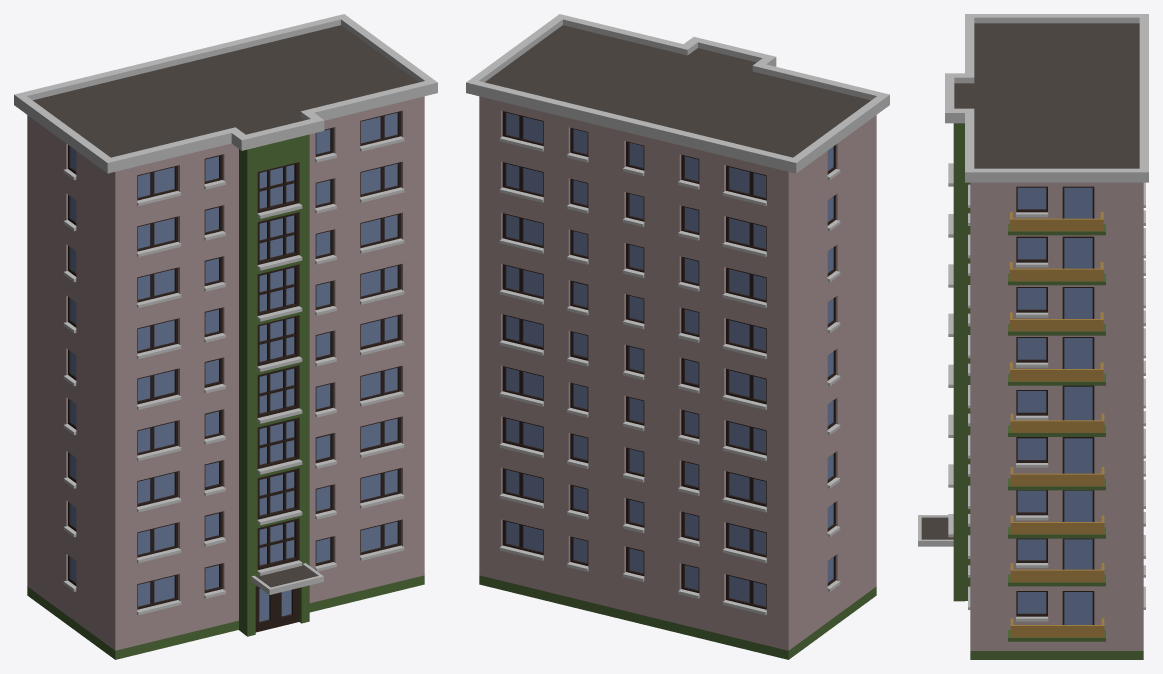
File: ApartmentBuilding_11.fbx
3 views of the same model, side by side, from view 1: azimuth 30°, elevation 25°; view 2: azimuth 150°, elevation 25°; view 3: azimuth 270°, elevation 25° (orthographic).
Visible parts, largest first — view 1: ApartmentBuilding_11; view 2: ApartmentBuilding_11; view 3: ApartmentBuilding_11.
Boxes of the visible parts, bbox=[...] form: ApartmentBuilding_11: bbox=[14, 14, 437, 659]; ApartmentBuilding_11: bbox=[466, 14, 889, 659]; ApartmentBuilding_11: bbox=[918, 14, 1148, 659].
Size of the model in its own units: 16.52 by 23.58 by 10.
